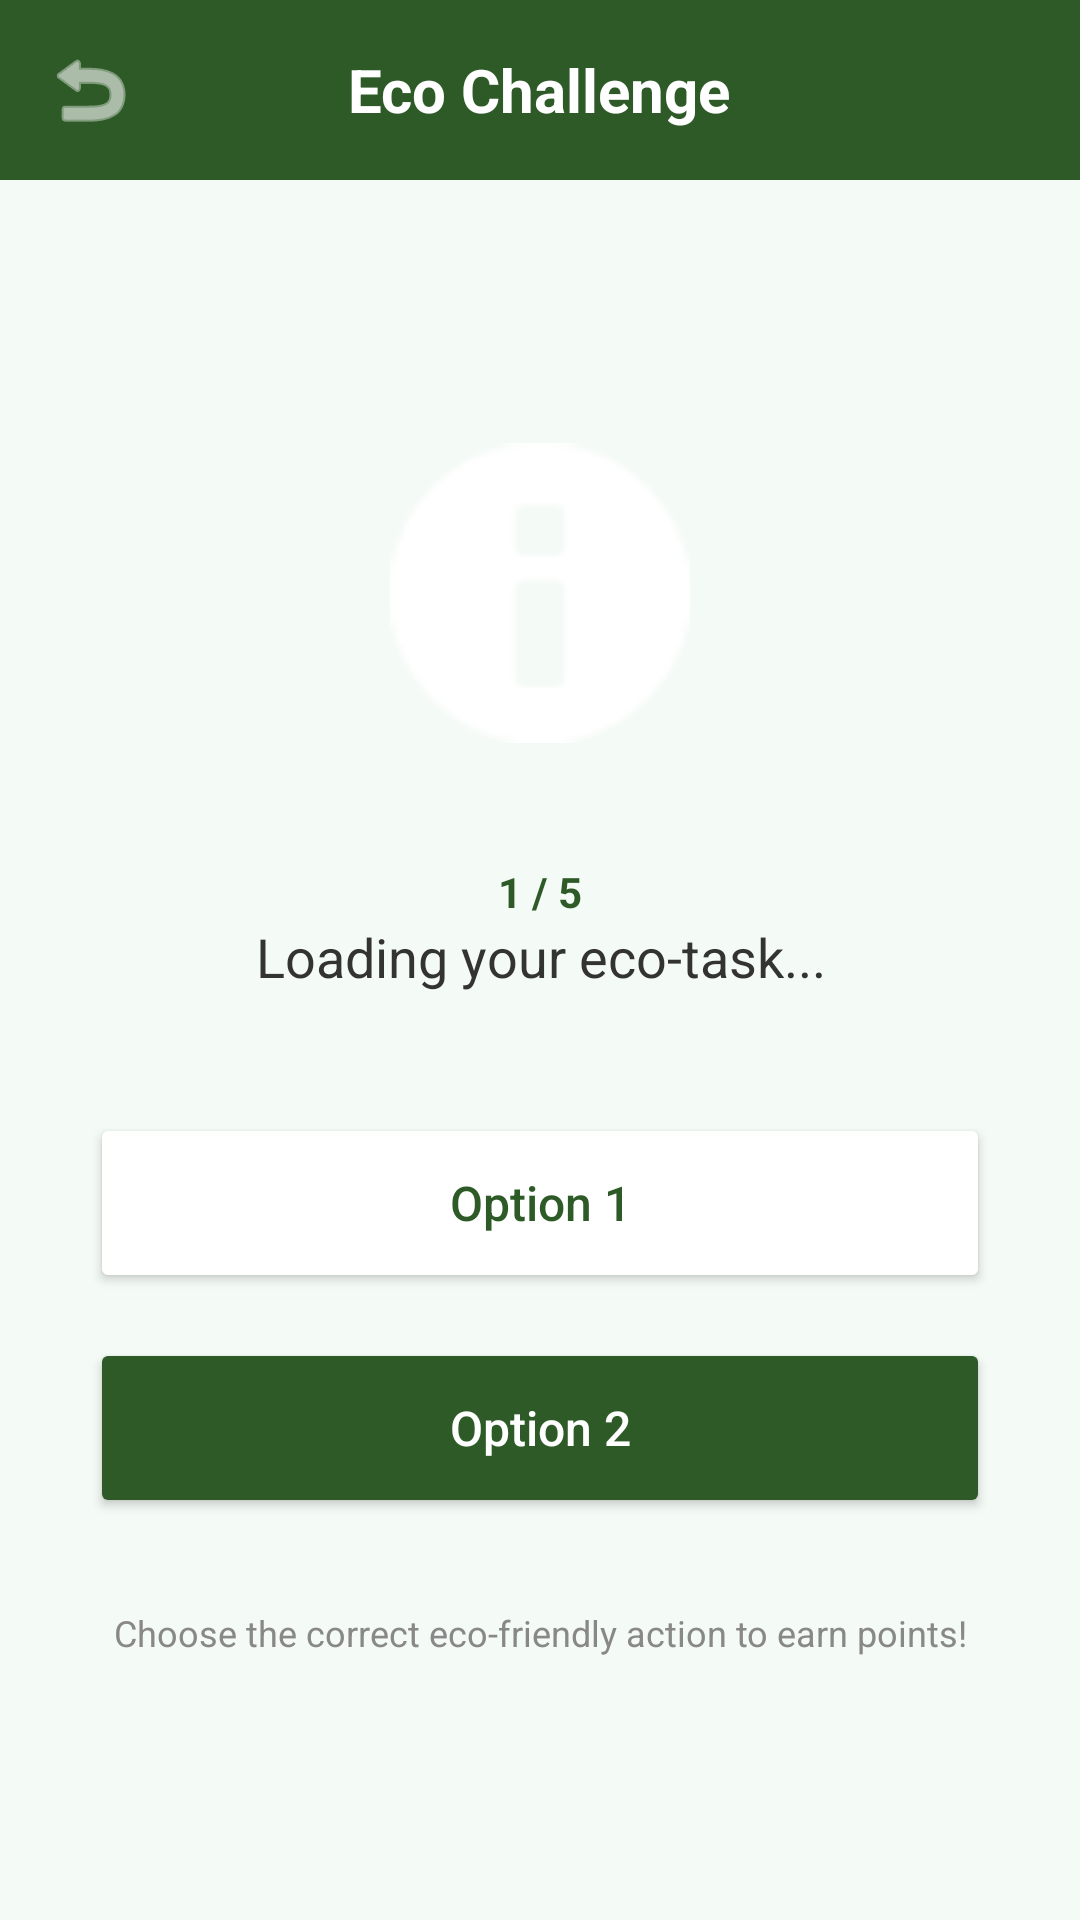

Screen size 1080px×1920px. Icon name, then its center in pixels as (x=x, y=y):
Back: (x=91, y=90)
